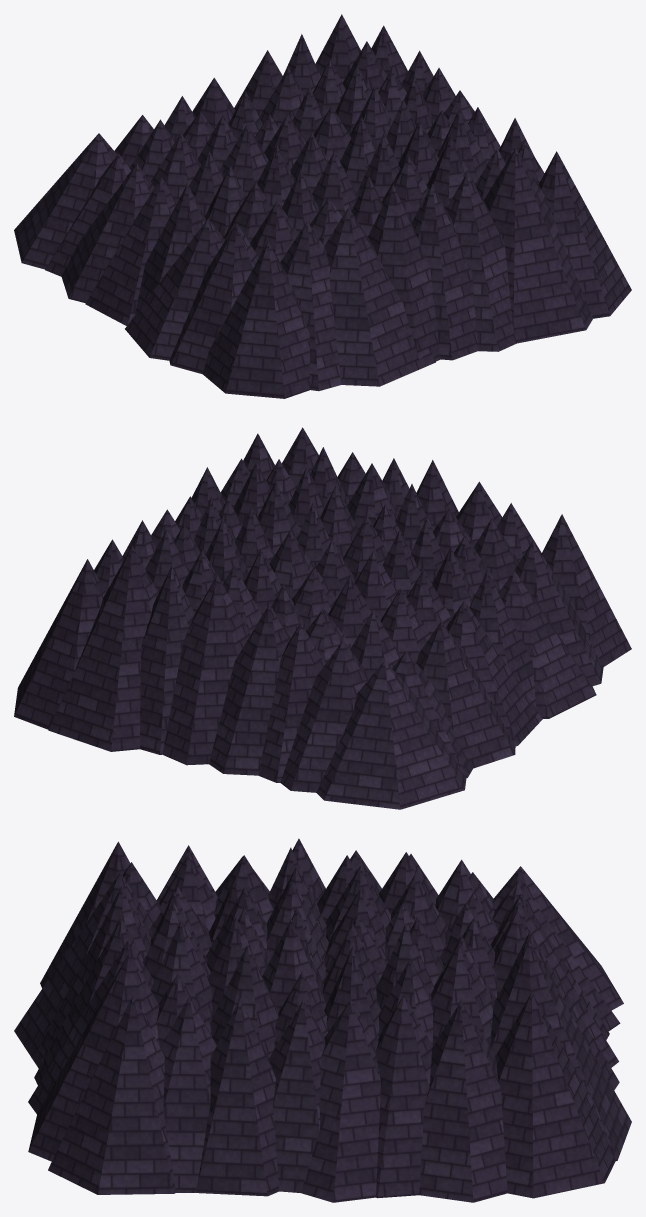
File: chunk_9_24.glb
3 views of the same model, one above another, from view 1: azimuth 30°, elevation 25°; view 2: azimuth 150°, elevation 25°; view 3: azimuth 270°, elevation 25° (orthographic). The views are drawn at different scales.
Visible parts, largest first — view 1: chunk_9_24; view 2: chunk_9_24; view 3: chunk_9_24.
Boxes of the visible parts, bbox=[...] form: chunk_9_24: bbox=[14, 14, 631, 398]; chunk_9_24: bbox=[14, 427, 631, 809]; chunk_9_24: bbox=[14, 838, 631, 1202].
Bounding box in the file's own units: 21.09 × 7.53 × 21.72.
Materials: 3 (3 with a texture image).
